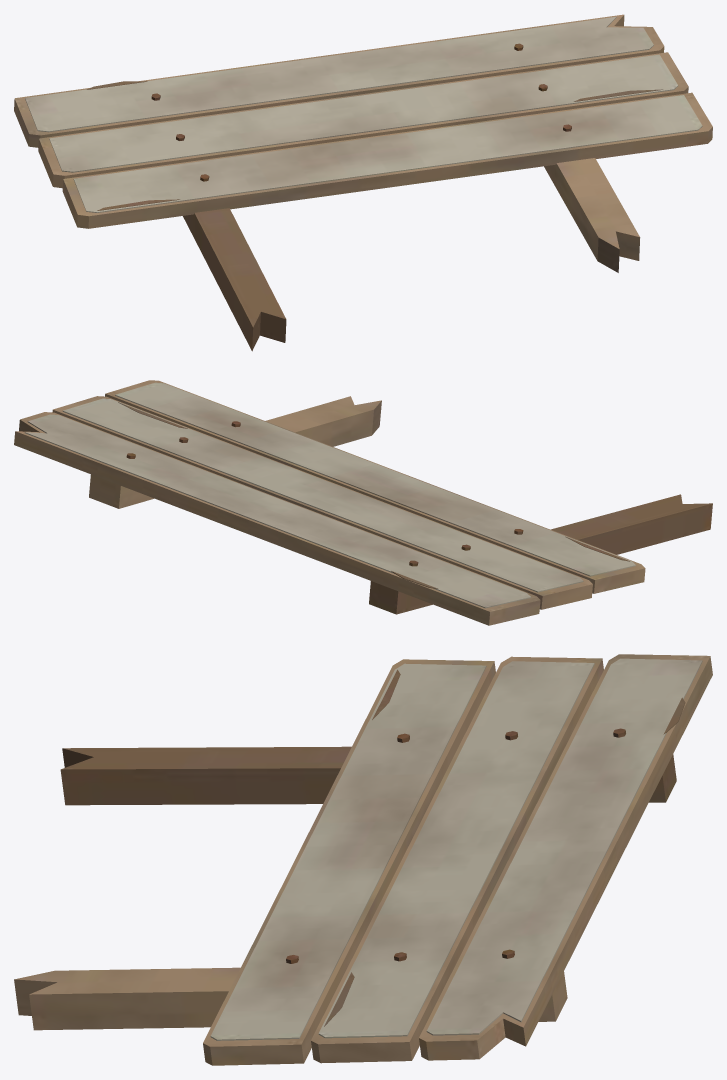
File: BR14_fallen_signboard_v1.glb
3 views of the same model, one above another, from view 1: azimuth 30°, elevation 25°; view 2: azimuth 150°, elevation 25°; view 3: azimuth 270°, elevation 25° (orthographic). The views are drawn at different scales.
Visible parts, largest first — view 1: Split left stake; view 2: Split left stake; view 3: Split left stake.
Boxes of the visible parts, x1,y1,x2,y2 form: Split left stake: (14,14,712,351); Split left stake: (14,380,712,625); Split left stake: (14,654,712,1065).
Bounding box in the file's own units: 2 × 0.2817 × 1.43.
4 materials, 4 textured.
